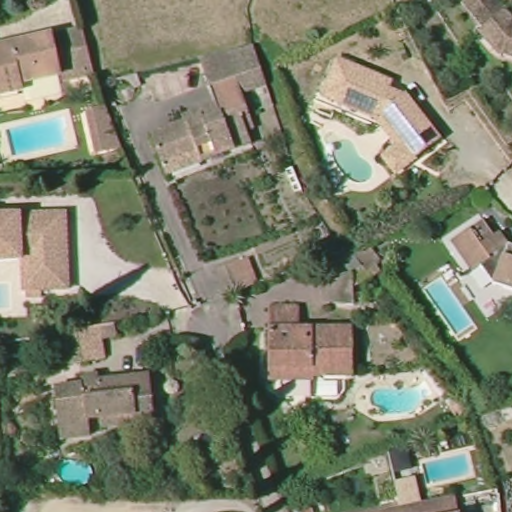pool: (419, 272, 483, 346), (4, 113, 78, 163), (326, 133, 379, 187), (364, 379, 436, 418), (46, 450, 101, 494), (419, 445, 479, 485), (1, 276, 18, 317)
